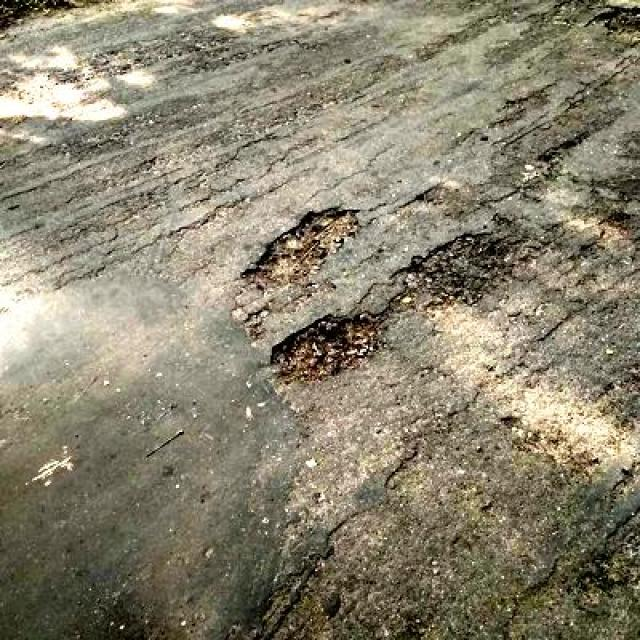pothole: (235, 202, 363, 291), (382, 229, 522, 310), (266, 309, 380, 389)
